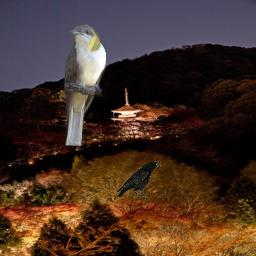Crow: (115, 160, 162, 200)
Cuckoo: (62, 24, 106, 146)
